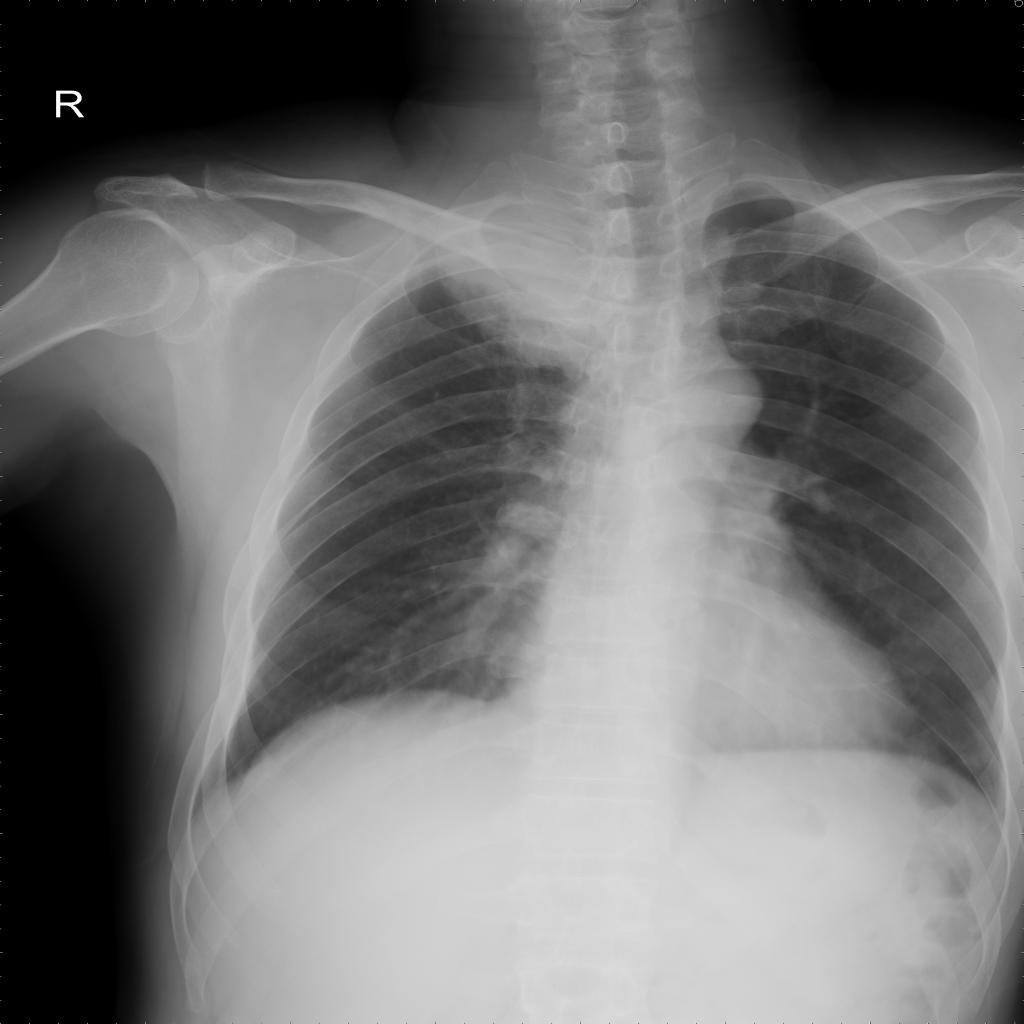Nodule: (440, 206, 594, 362)
